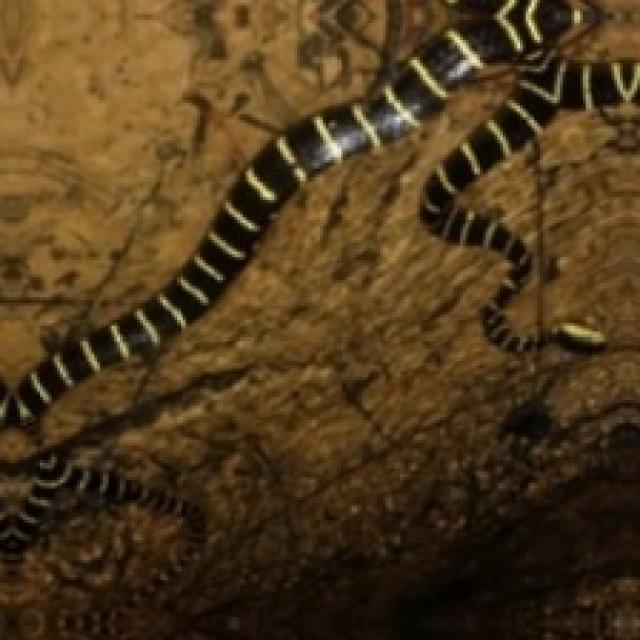mangrove cat snake: (0, 0, 640, 428), (0, 451, 202, 553)
